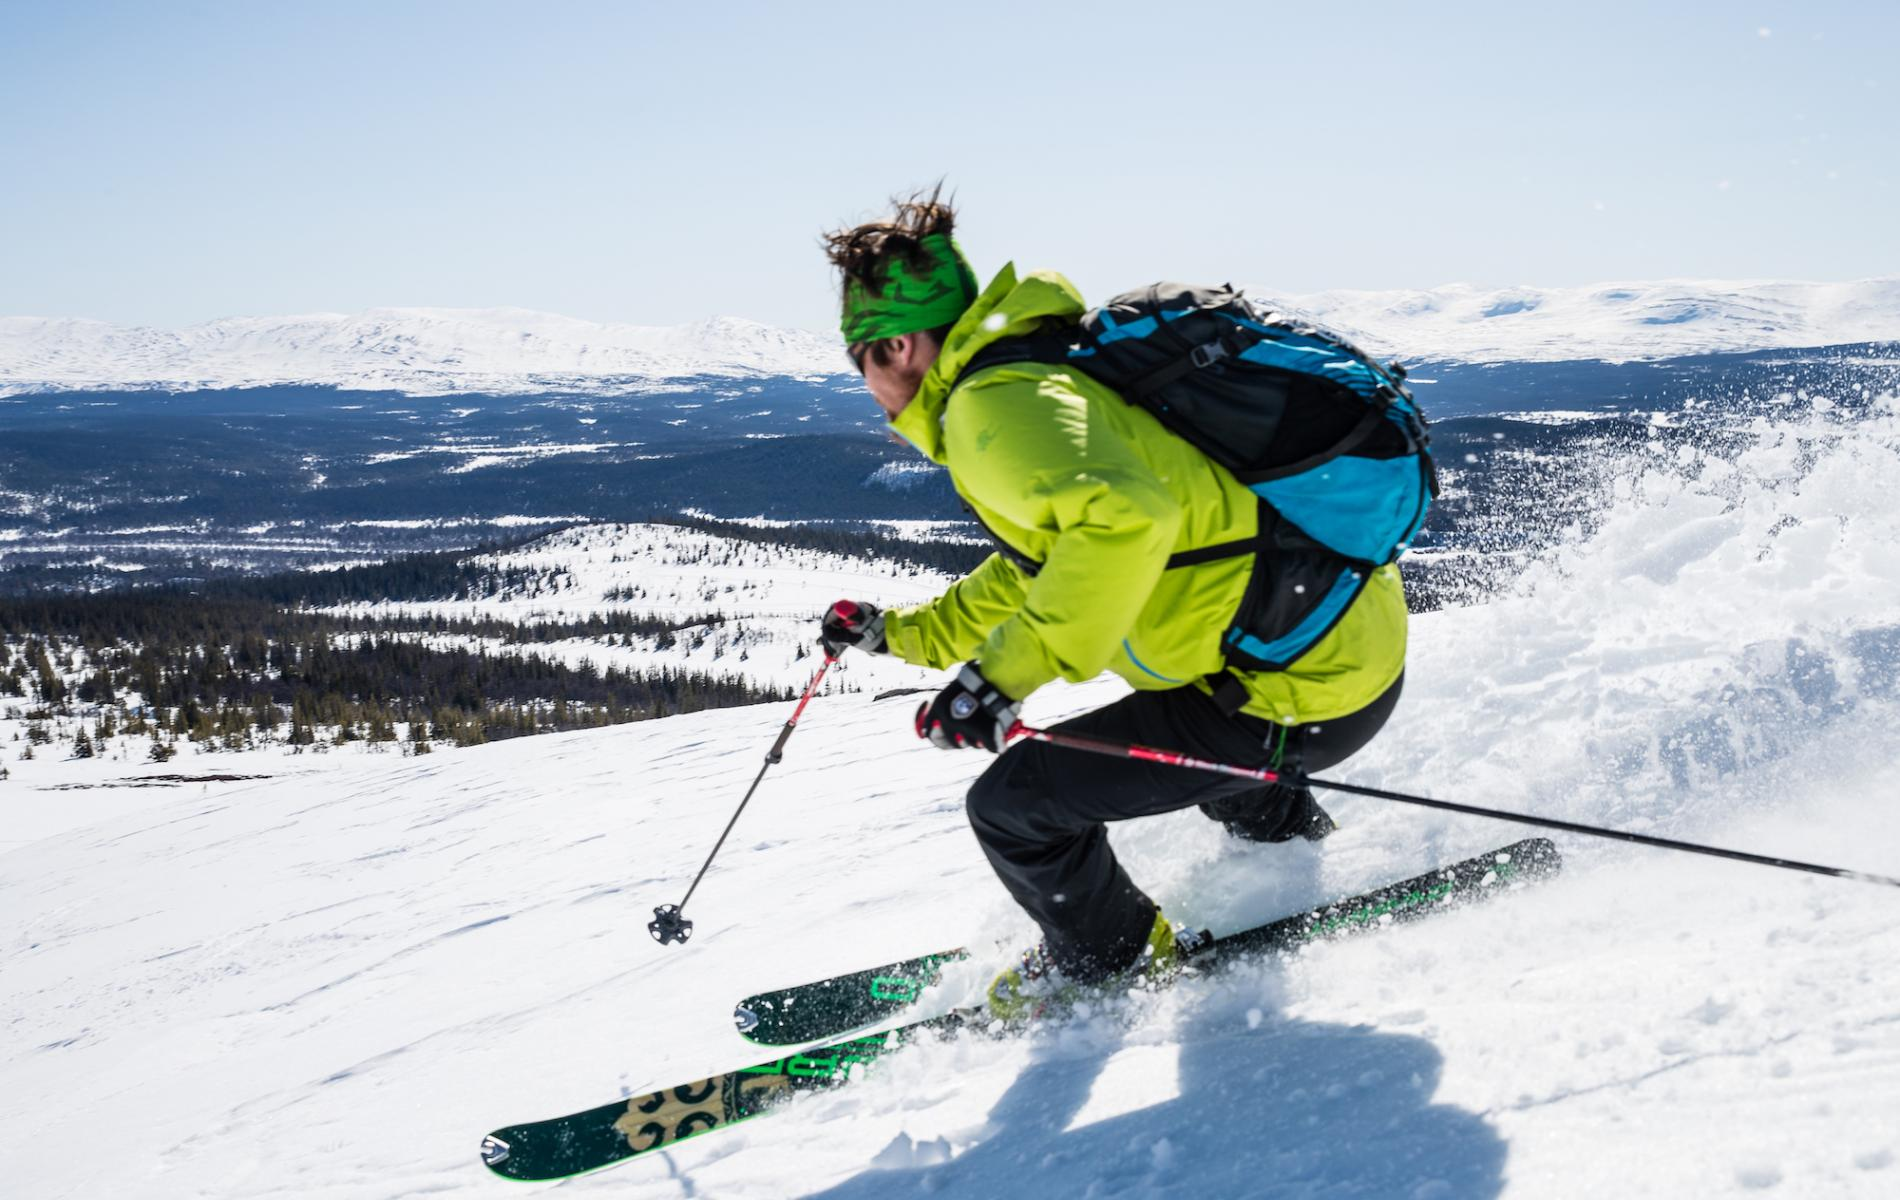skier: (340, 174, 1894, 1200)
